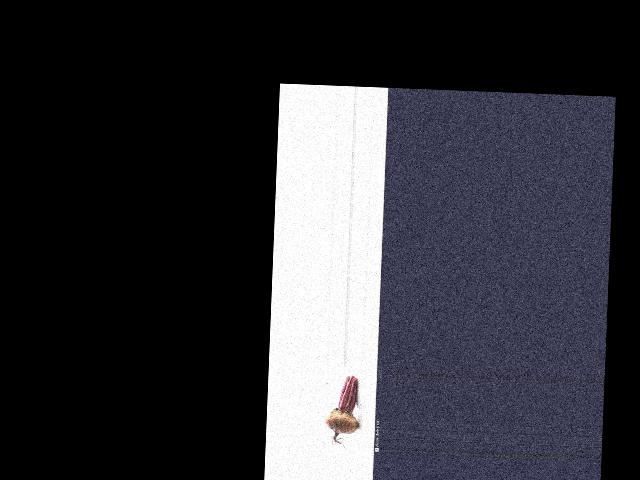beet: (324, 374, 360, 448)
